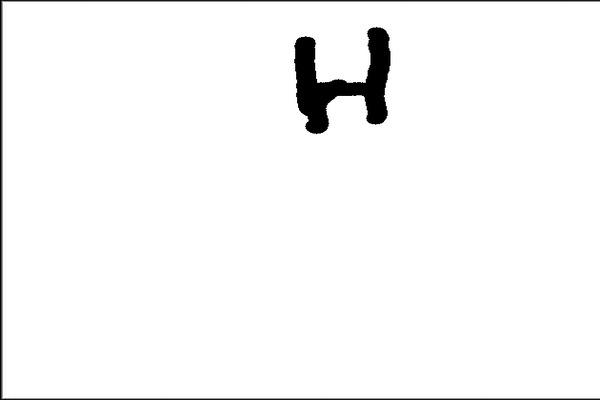H: (287, 19, 399, 132)
